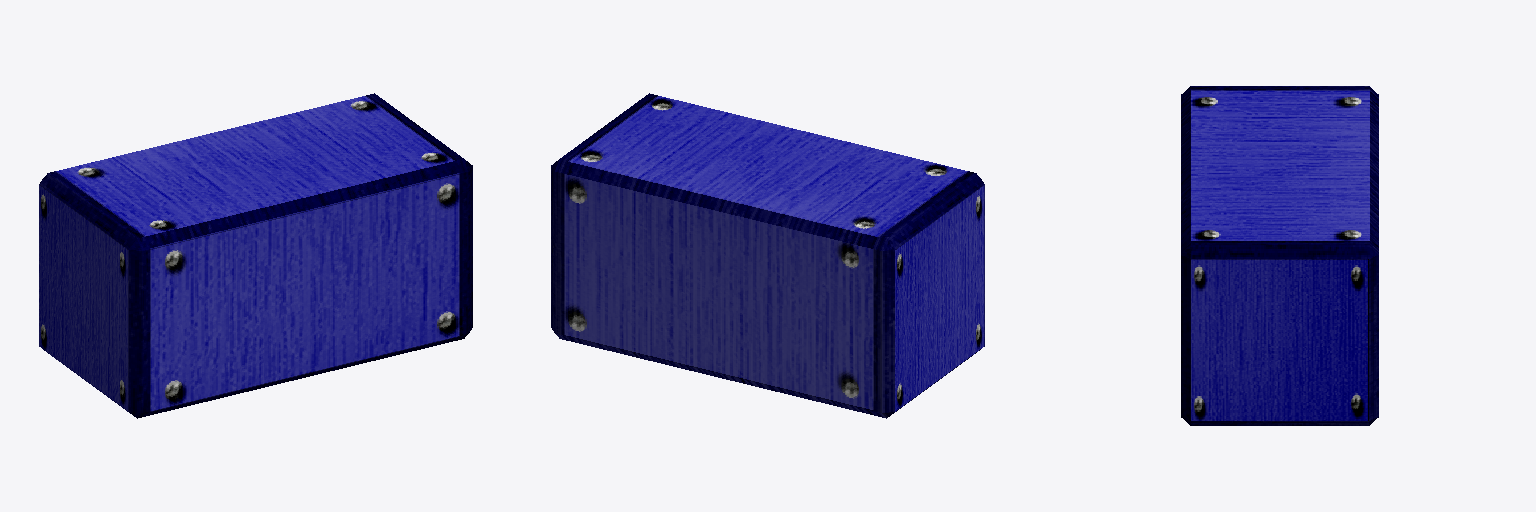
The picture shows the model from 3 angles: view 1: azimuth 30°, elevation 25°; view 2: azimuth 150°, elevation 25°; view 3: azimuth 270°, elevation 25°; orthographic projection.
Visible parts, largest first — view 1: default; view 2: default; view 3: default.
Part boxes in pixels (bbox=[...]): default: bbox=[39, 93, 472, 418]; default: bbox=[551, 93, 984, 418]; default: bbox=[1181, 86, 1378, 425].
Bounding box in the file's own units: 2 × 1 × 1.
Materials: 1 (1 with a texture image).